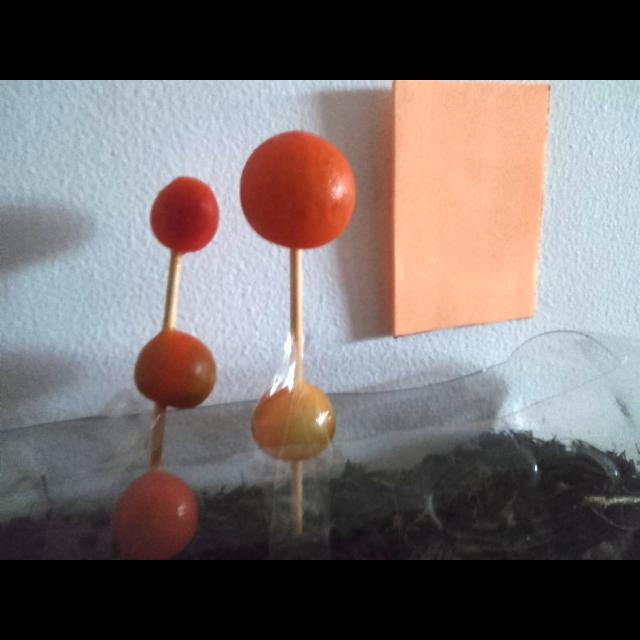card: (391, 80, 550, 336), (391, 80, 549, 336)
fruit_maturation: (251, 382, 335, 462)
fully_grown: (241, 131, 355, 249), (112, 470, 197, 560), (134, 330, 216, 409), (150, 178, 218, 253)
